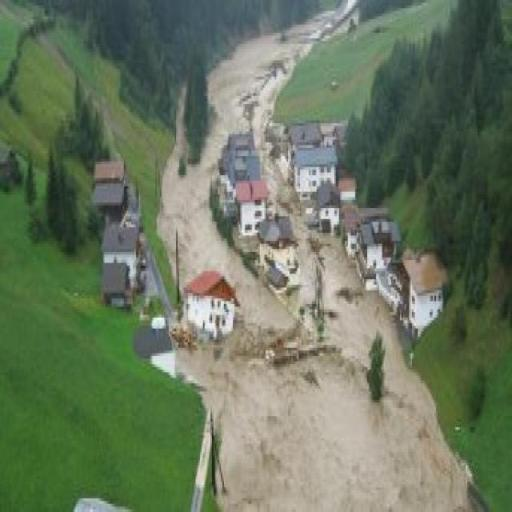flood: (159, 1, 478, 512), (260, 140, 300, 216)
house: (184, 268, 239, 337), (404, 253, 446, 331), (344, 210, 401, 255), (294, 146, 339, 192), (258, 220, 296, 270), (236, 181, 270, 235), (102, 223, 139, 264), (315, 184, 342, 230), (91, 182, 129, 212), (94, 160, 127, 185), (338, 175, 358, 202)
